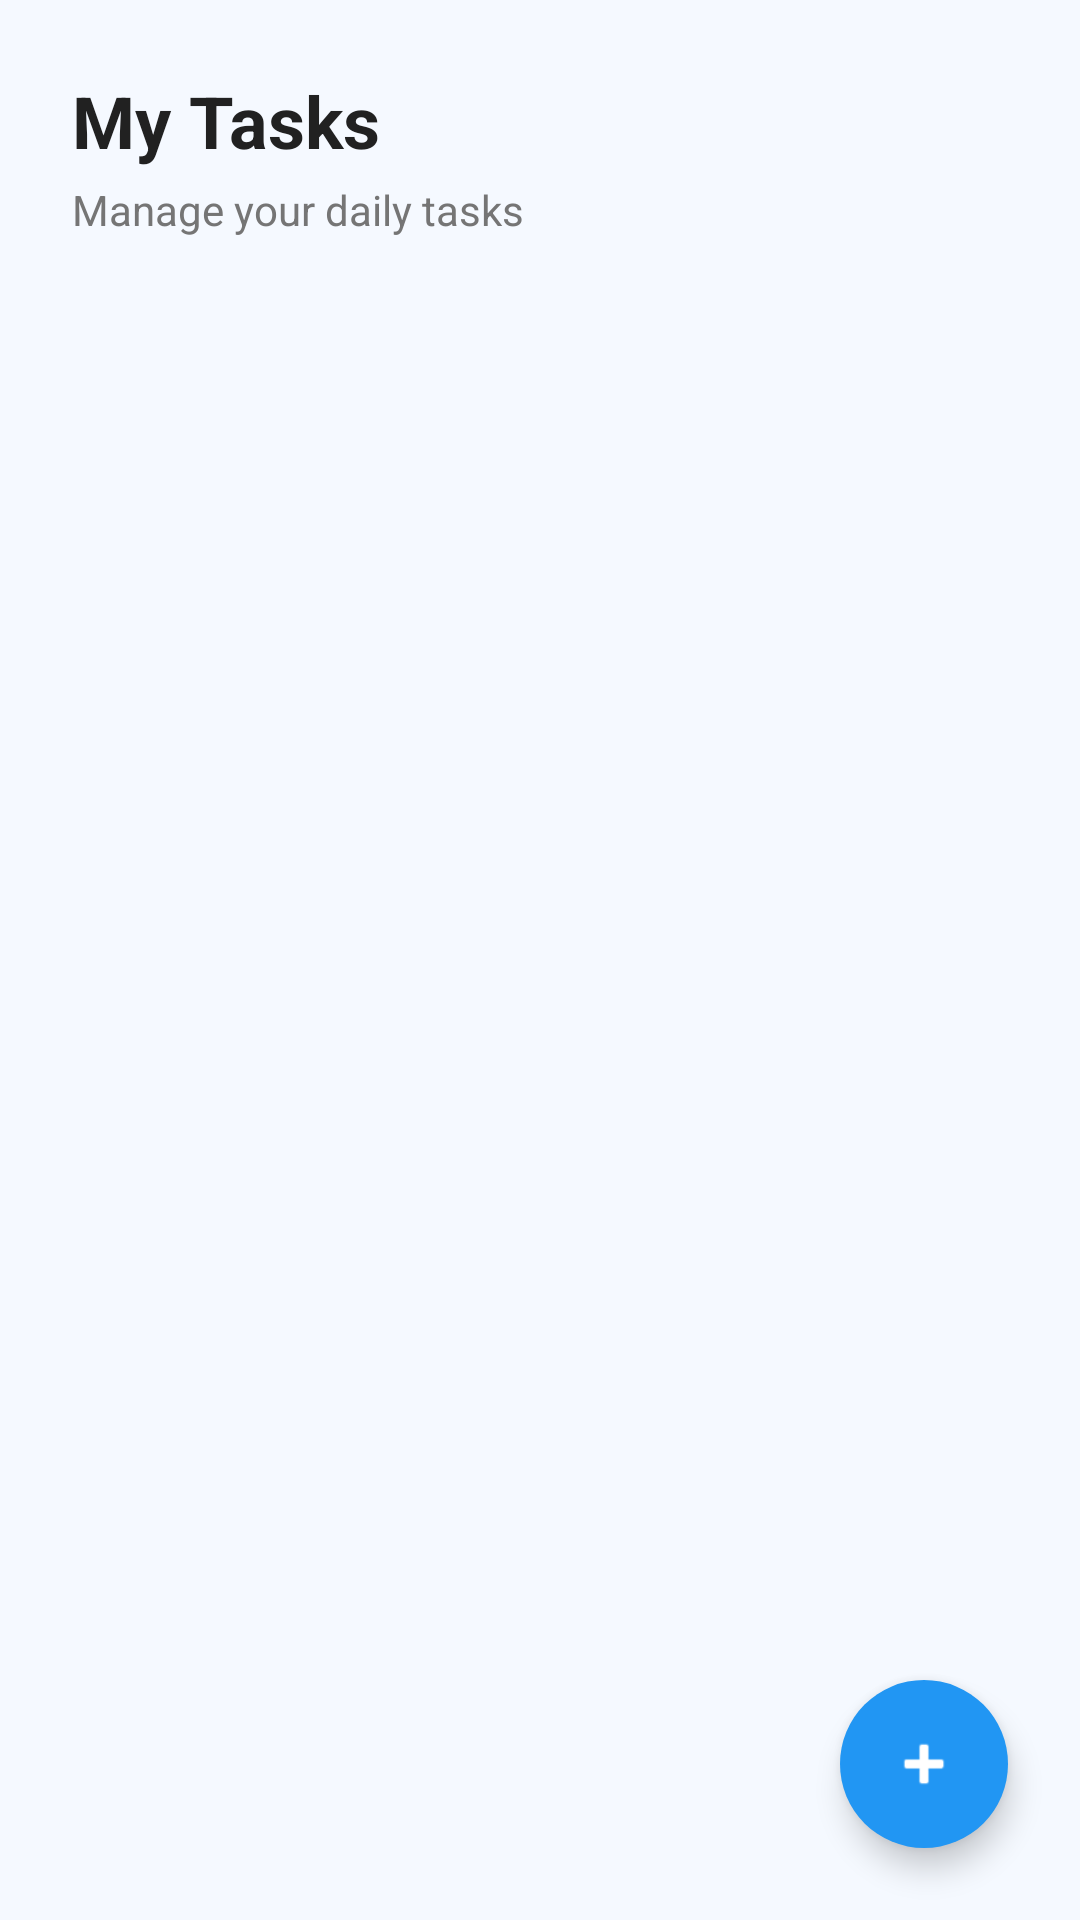

Icon bounding boxes for this 1080px x 1920px phone screenshot, format [x1=x1, y1=y1, x2=x2, y2=y2]:
Add new task: [x1=840, y1=1680, x2=1008, y2=1848]
